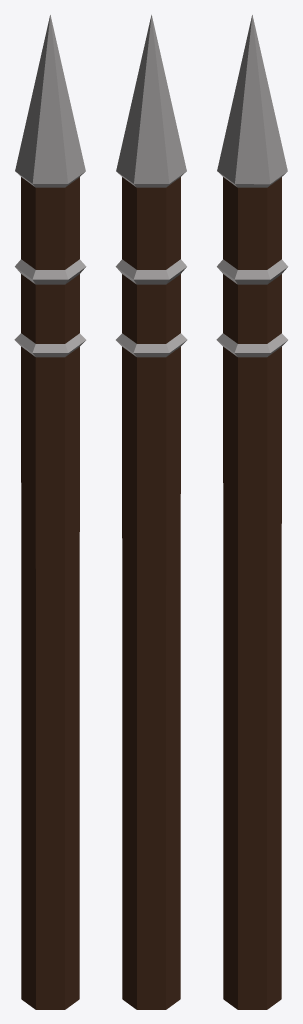
The model's file is ArrowSpike.fbx.
3 views of the same model, side by side, from view 1: azimuth 30°, elevation 25°; view 2: azimuth 150°, elevation 25°; view 3: azimuth 330°, elevation 25° (orthographic).
Parts seen in each view (by area): view 1: ArrowSpike; view 2: ArrowSpike; view 3: ArrowSpike.
Boxes of the visible parts, bbox=[...] form: ArrowSpike: bbox=[14, 15, 86, 1009]; ArrowSpike: bbox=[115, 15, 187, 1009]; ArrowSpike: bbox=[216, 15, 288, 1009].
Bounding box in the file's own units: 4.2 × 73.09 × 4.84.
